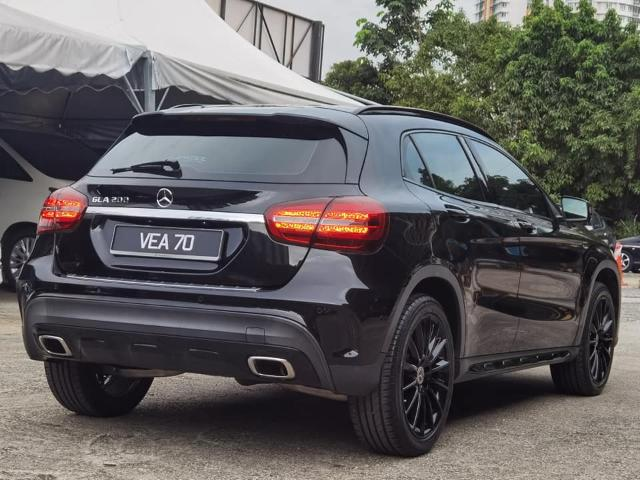License_Plate: (122, 226, 206, 259)
